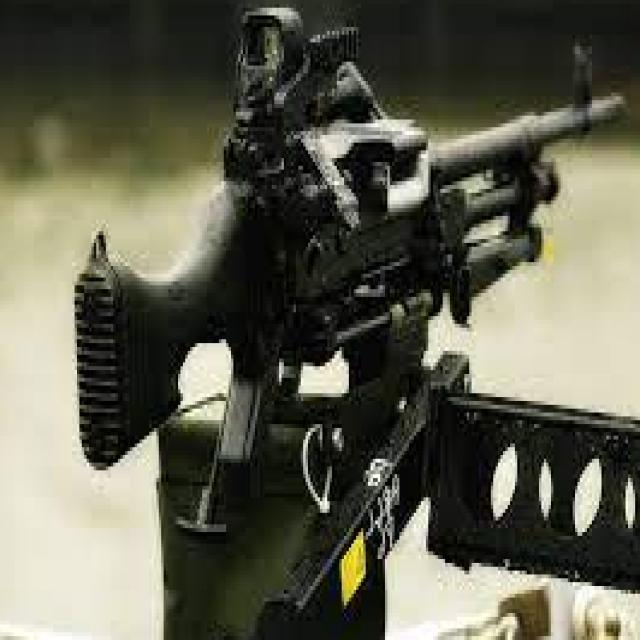Gun: (70, 0, 626, 490)
